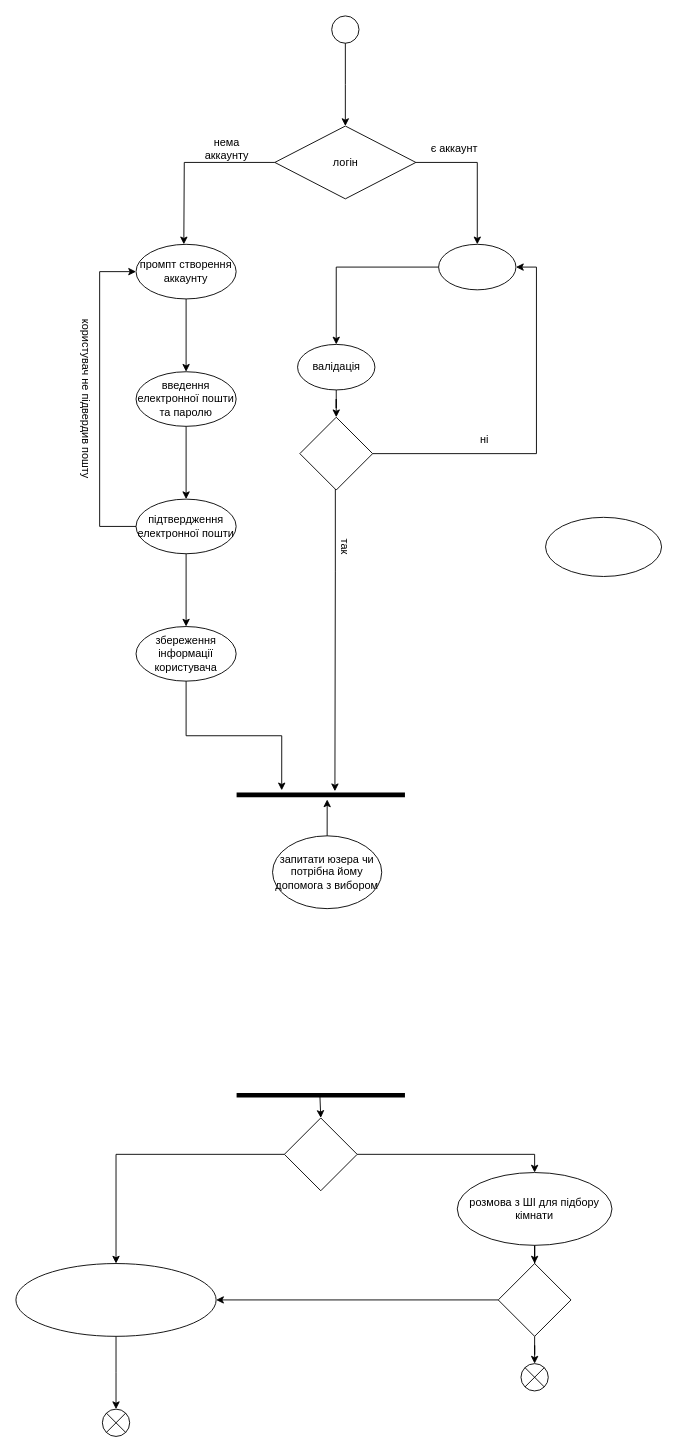
Image size: 678x1452. Some labels were removed from this diagram. The shapes that lost their labels are listed below. From the top down, each one's centre as x and y in pixels, then its label:
At point (477, 266): "запросити логін пароль".
At point (336, 453): "чи правильний пароль?".
At point (603, 546): "відновлення даних через техпідтримку".
At point (115, 1299): "бронювання певної кімнати певного готелю".
